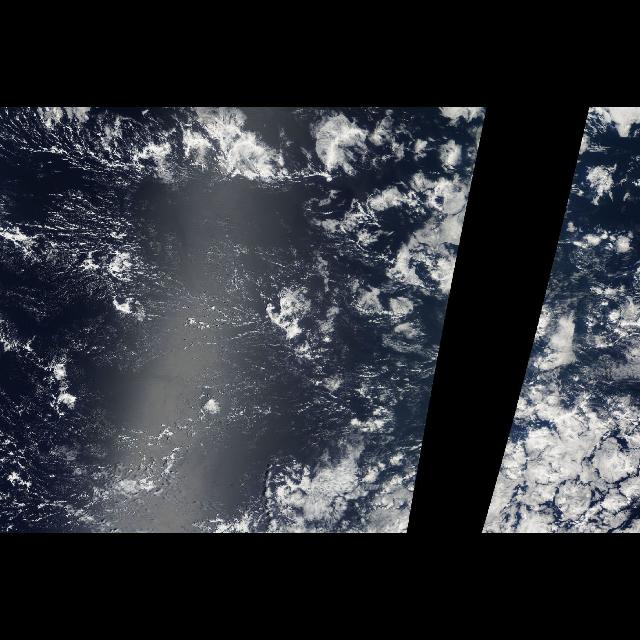Sugar: (3, 115, 393, 398)
